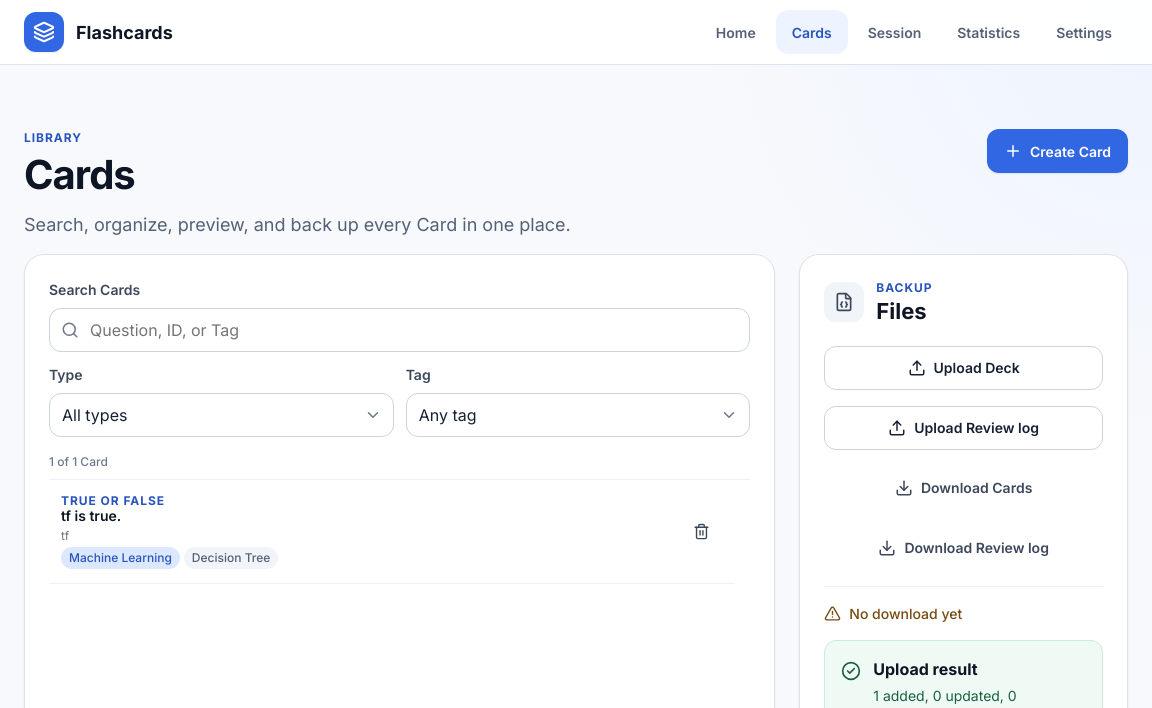
Scenario: shows right or wrong after a click on an option (true_false, true)
Earlier steps of the test are not shown.
Click the button "Home": (736, 32) x1=700 y1=10 x2=772 y2=54
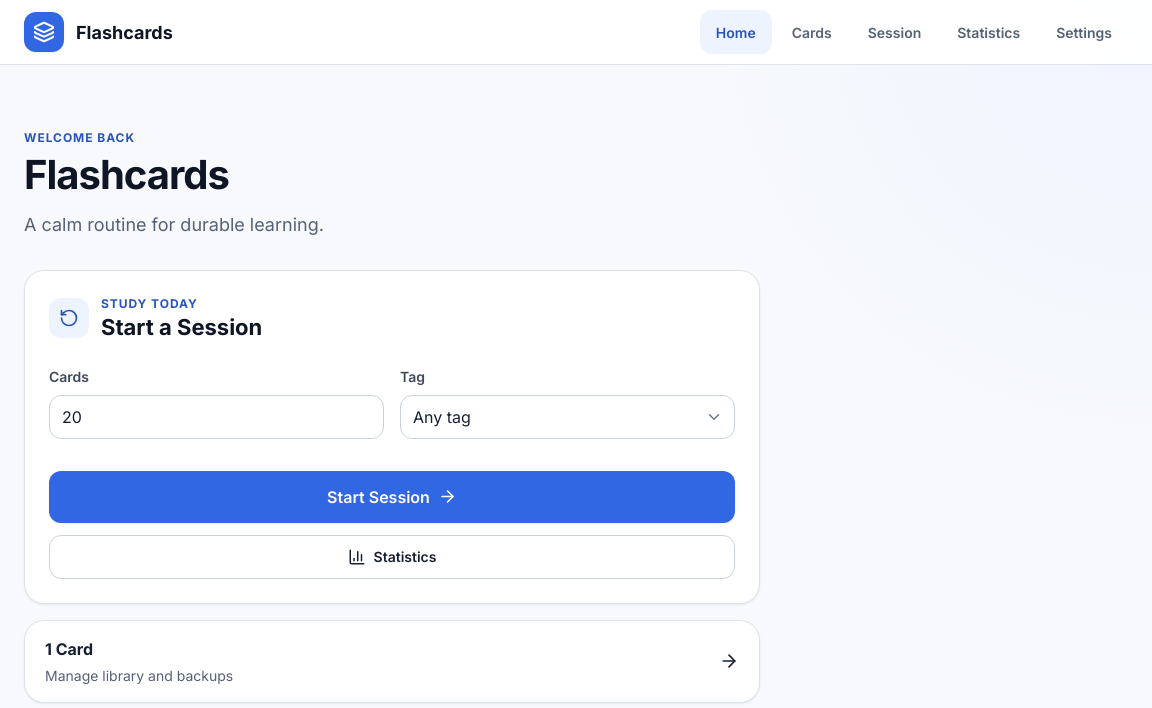
Click the button "Start Session": (392, 497) x1=49 y1=471 x2=735 y2=523
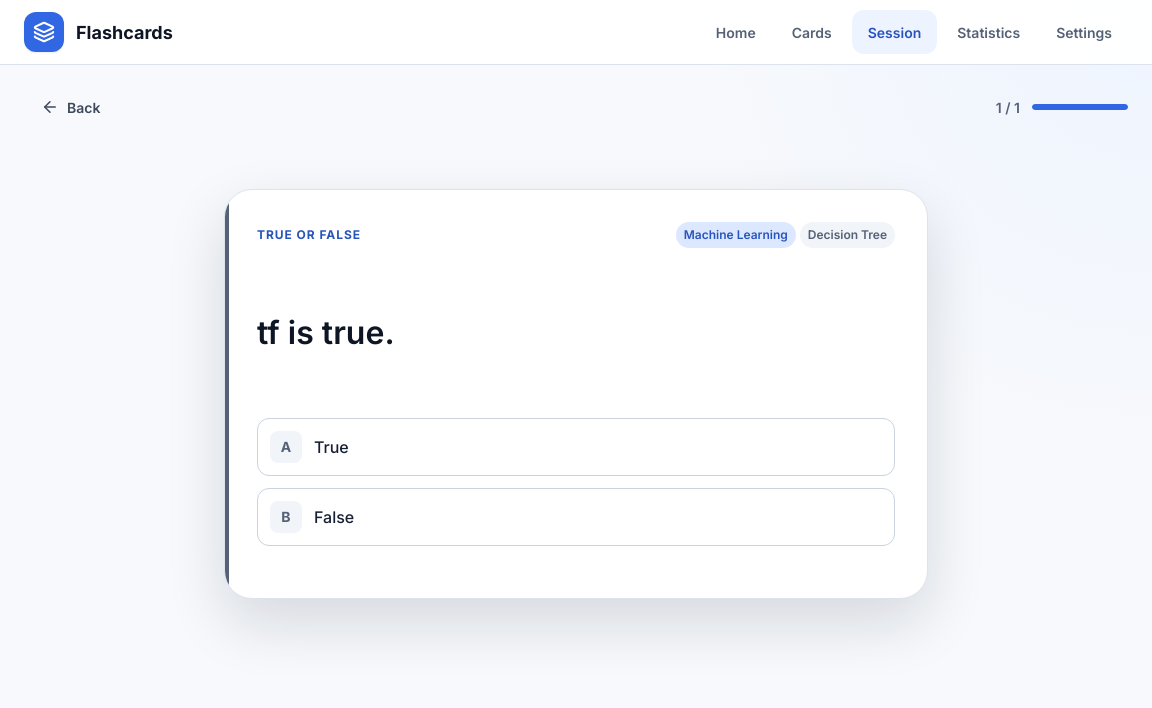
Check: the heading "tf is true." is shown, box x1=257 y1=313 x2=395 y2=352
Click the button "A True": (286, 447) x1=257 y1=418 x2=895 y2=476
(page scrolled)
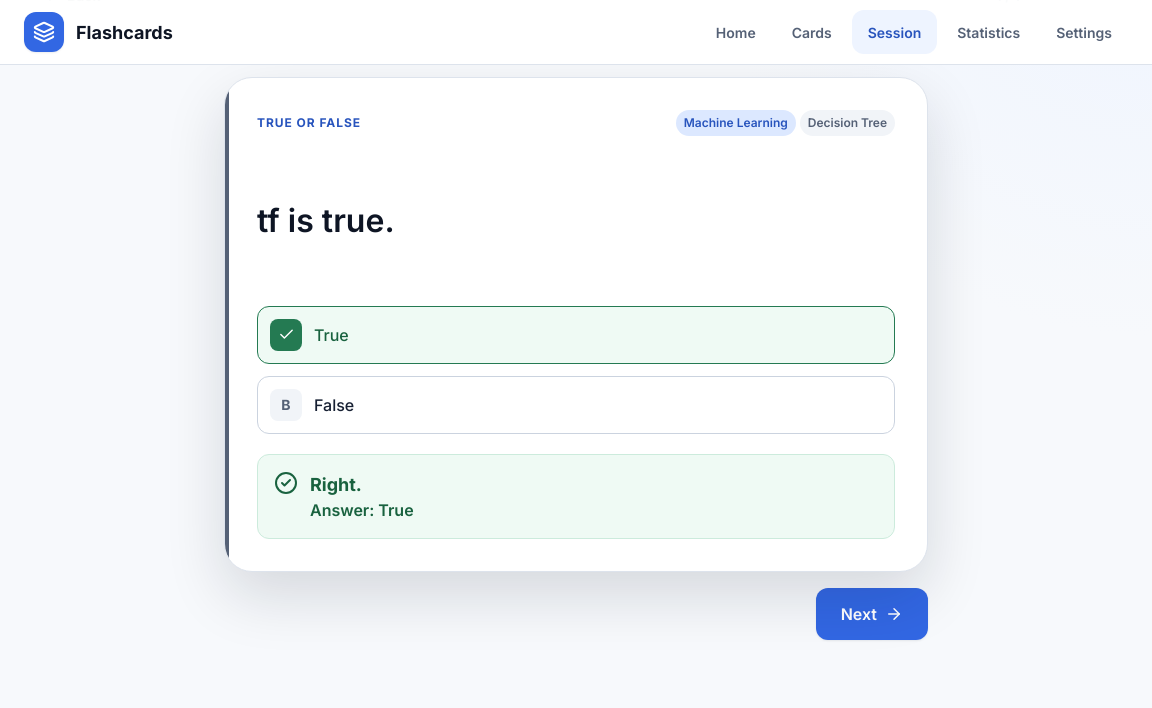
Check: the text "Right." is shown, box x1=310 y1=474 x2=362 y2=495
Check: the button "True" is disabled, box x1=257 y1=306 x2=895 y2=364
Check: the button "B False" is disabled, box x1=257 y1=376 x2=895 y2=434
Click the button "Next": (872, 614) x1=816 y1=588 x2=928 y2=640
(page scrolled)
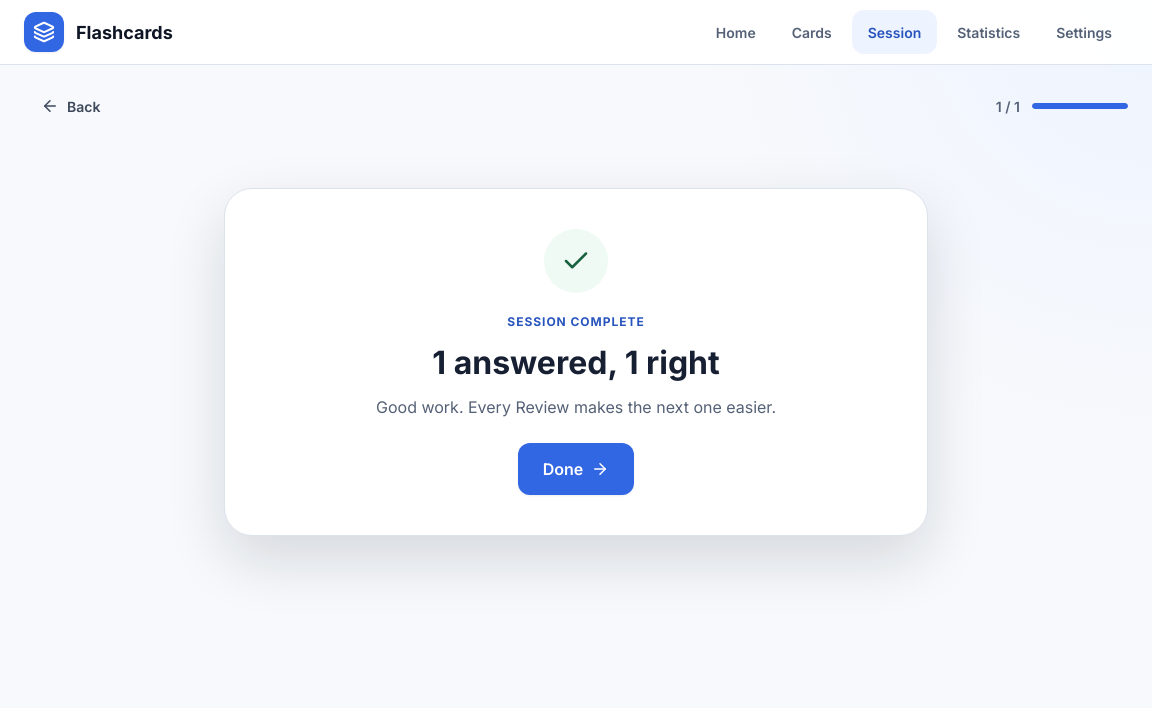
Check: the heading "1 answered, 1 right" is shown, box x1=432 y1=343 x2=720 y2=382
